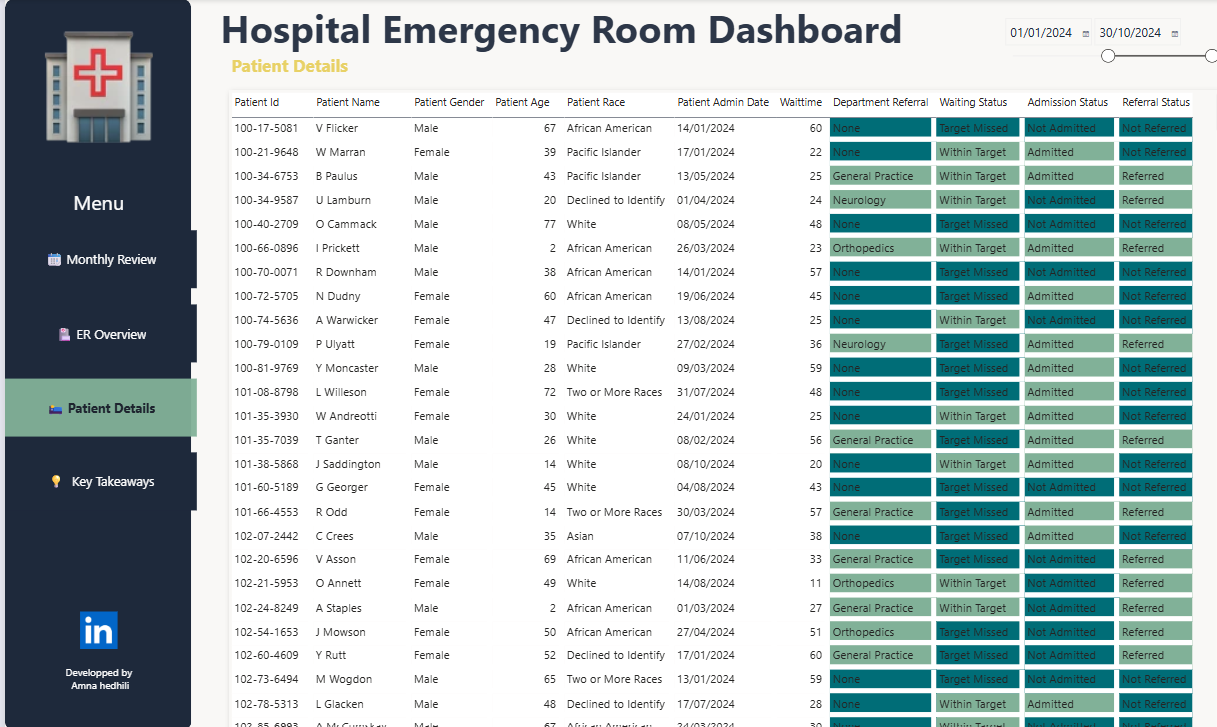

The dashboard page shown, as its layout file describes it:
{"tool":"powerbi","page":{"name":"🛌 Patient Details","canvas":[2300,1400],"ordinal":2},"visuals":[{"type":"slicer","title":"Date","fields":{"Values":["Date Table.Date"]},"box":[1865.7,25.7,421.4,125.7],"z":0},{"type":"shape","box":[0,0,349.5,1374.7],"z":1000},{"type":"textbox","box":[367.5,0,1352.5,115],"z":2000},{"type":"textbox","box":[418.8,97.5,352.5,73.8],"z":3000},{"type":"tableEx","fields":{"Values":["Hospital ER_Data.Patient Id","Hospital ER_Data.Patient Full Name","Hospital ER_Data.Patient Gender","Sum(Hospital ER_Data.Patient Age)","Hospital ER_Data.Patient Race","Hospital ER_Data.Patient Admin Date","Sum(Hospital ER_Data.Patient Waittime)","Hospital ER_Data.Department Referral","Hospital ER_Data.Waiting Status","Hospital ER_Data.Admission Status","Hospital ER_Data.Referral Status"]},"box":[420,172,1868,1204],"z":4000},{"type":"image","box":[25.8,58.6,300.3,211.1],"z":5000},{"type":"pageNavigator","box":[0,434,360,527.8],"z":6000},{"type":"textbox","box":[0,351.9,351.9,126.7],"z":7000},{"type":"image","box":[100.9,1149.5,150.1,70.4],"z":8000},{"type":"textbox","box":[25.8,1245.6,300.3,70.4],"z":9000}]}

Visuals, with their boxes in screenshot pixels (x1, y1, x2, y2), scaled from the page's 2300x1400 canvas onto the 1217x727 screenshot:
"Date" slicer: [x1=987, y1=13, x2=1210, y2=79]
shape: [x1=0, y1=0, x2=185, y2=714]
textbox: [x1=194, y1=0, x2=910, y2=60]
textbox: [x1=222, y1=51, x2=408, y2=89]
tableEx - Hospital ER_Data.Patient Id x Hospital ER_Data.Patient Full Name: [x1=222, y1=89, x2=1211, y2=715]
image: [x1=14, y1=30, x2=173, y2=140]
pageNavigator: [x1=0, y1=225, x2=190, y2=499]
textbox: [x1=0, y1=183, x2=186, y2=249]
image: [x1=53, y1=597, x2=133, y2=633]
textbox: [x1=14, y1=647, x2=173, y2=683]
